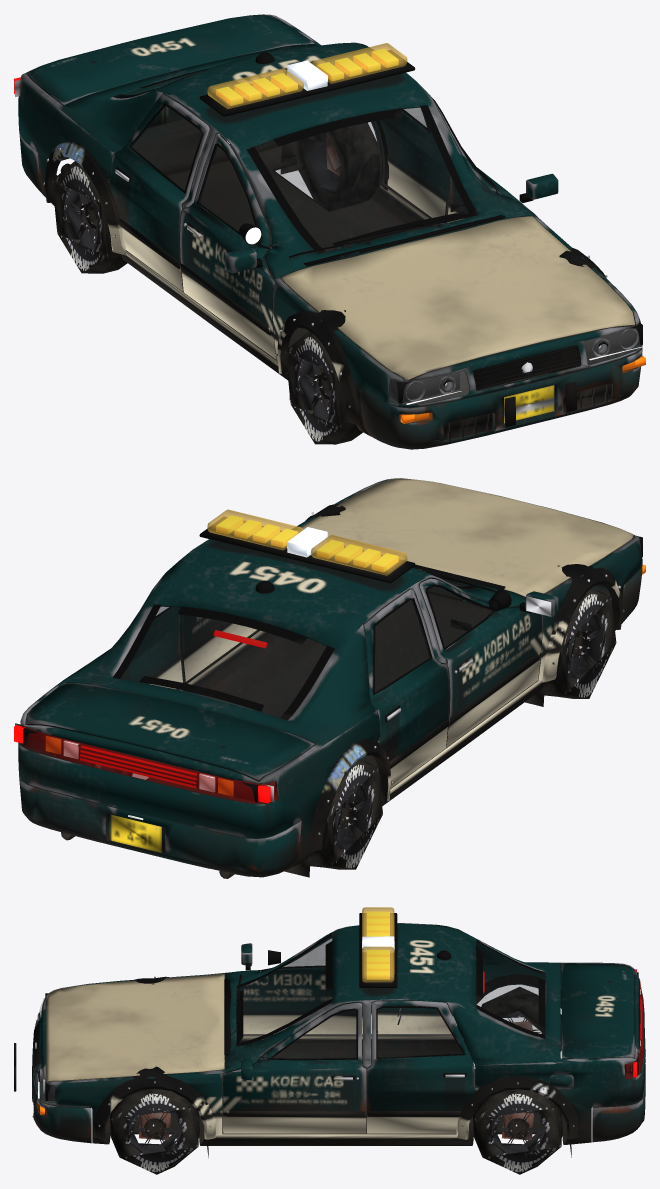
The model's file is cab_lod1.glb.
3 views of the same model, one above another, from view 1: azimuth 30°, elevation 25°; view 2: azimuth 150°, elevation 25°; view 3: azimuth 270°, elevation 25° (orthographic). The views are drawn at different scales.
Parts seen in each view (by area): view 1: Body, Wheel_RL, Wheel_FR, Wheel_RR; view 2: Body, Wheel_RR, Wheel_FR; view 3: Body, Wheel_FL, Wheel_RL, Wheel_RR.
Part boxes in pixels (x1=…): Body: x1=14, y1=14, x2=645, y2=449; Wheel_RL: x1=295, y1=122, x2=379, y2=210; Wheel_FR: x1=285, y1=331, x2=362, y2=444; Wheel_RR: x1=52, y1=161, x2=127, y2=273; Body: x1=14, y1=478, x2=645, y2=878; Wheel_RR: x1=310, y1=759, x2=382, y2=869; Wheel_FR: x1=544, y1=588, x2=616, y2=698; Body: x1=14, y1=907, x2=645, y2=1157; Wheel_FL: x1=110, y1=1088, x2=199, y2=1174; Wheel_RL: x1=473, y1=1089, x2=562, y2=1174; Wheel_RR: x1=481, y1=987, x2=561, y2=1051.
Size of what is drawn, in the model's own units: 2.16 by 1.47 by 4.61.
Materials: 2 (2 with a texture image).
